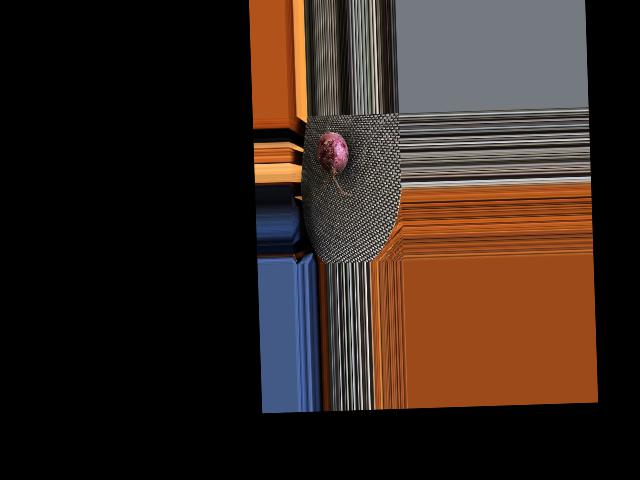beet: (315, 131, 353, 197)
